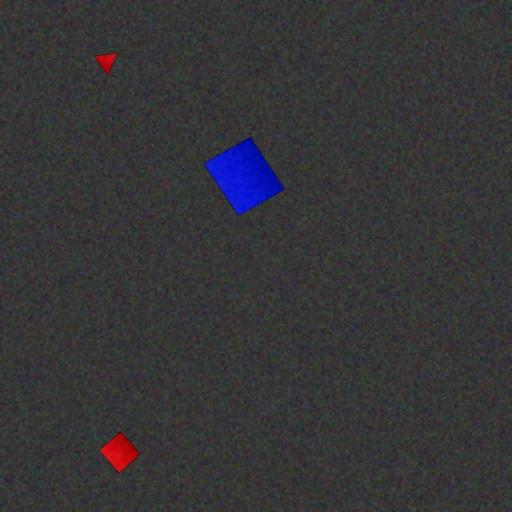BLUE_SQUARE: (202, 136, 286, 217)
RED_SQUARE: (99, 431, 141, 474)
